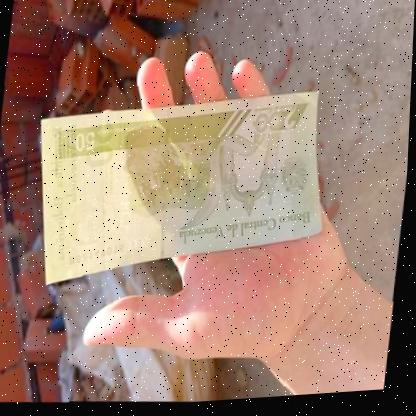fifty-back-vef: (23, 74, 341, 307)
